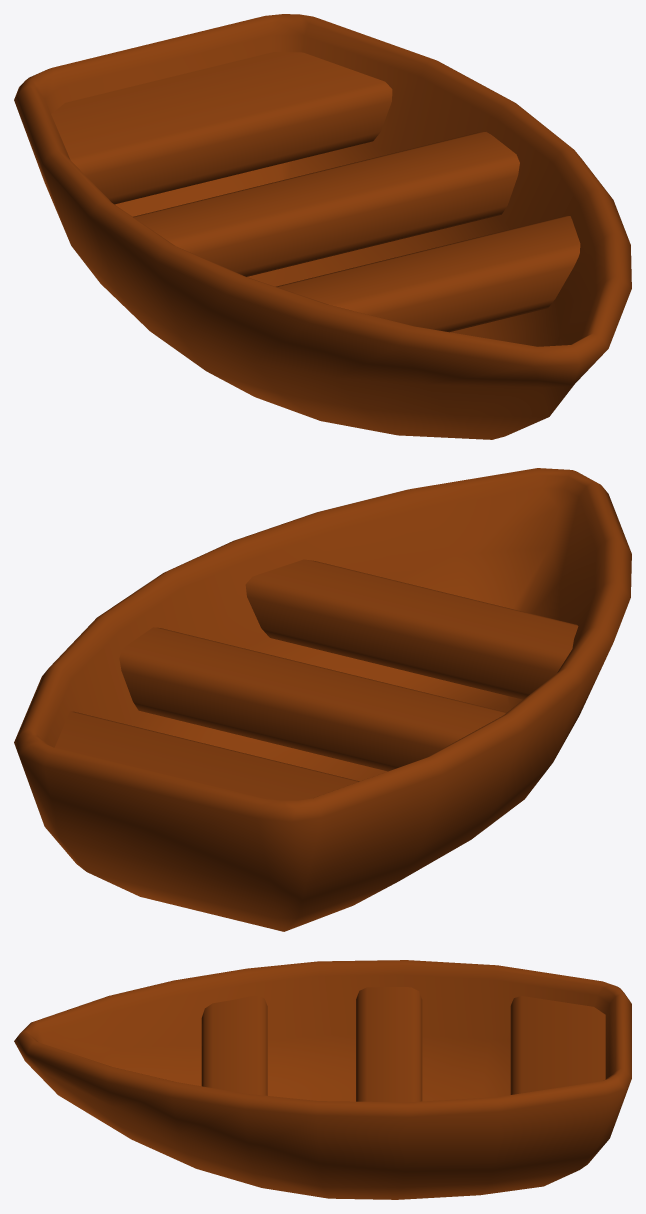
File: LastLuna_Model_Object_Wooden_Boat.fbx
3 renders of one model, top to bottom at view 1: azimuth 30°, elevation 25°; view 2: azimuth 150°, elevation 25°; view 3: azimuth 270°, elevation 25°, orthographic. The views are drawn at different scales.
Visible parts, largest first — view 1: Wooden_Boat001; view 2: Wooden_Boat001; view 3: Wooden_Boat001.
Boxes of the visible parts, x1,y1,x2,y2 form: Wooden_Boat001: (14,14,631,439); Wooden_Boat001: (14,468,631,931); Wooden_Boat001: (14,960,631,1199).
Size of the model in its own units: 408 by 163 by 700.
